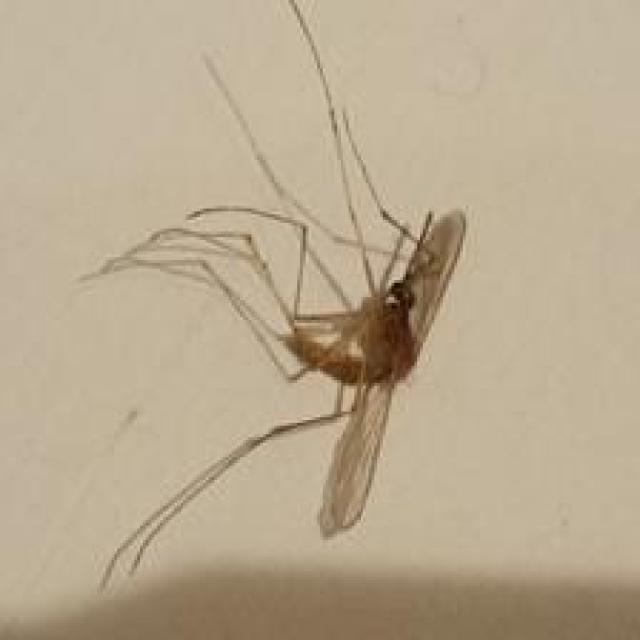Culex: (77, 0, 468, 591)
